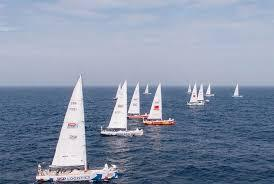Ship: (37, 76, 118, 183), (102, 81, 144, 137), (144, 83, 176, 125)
